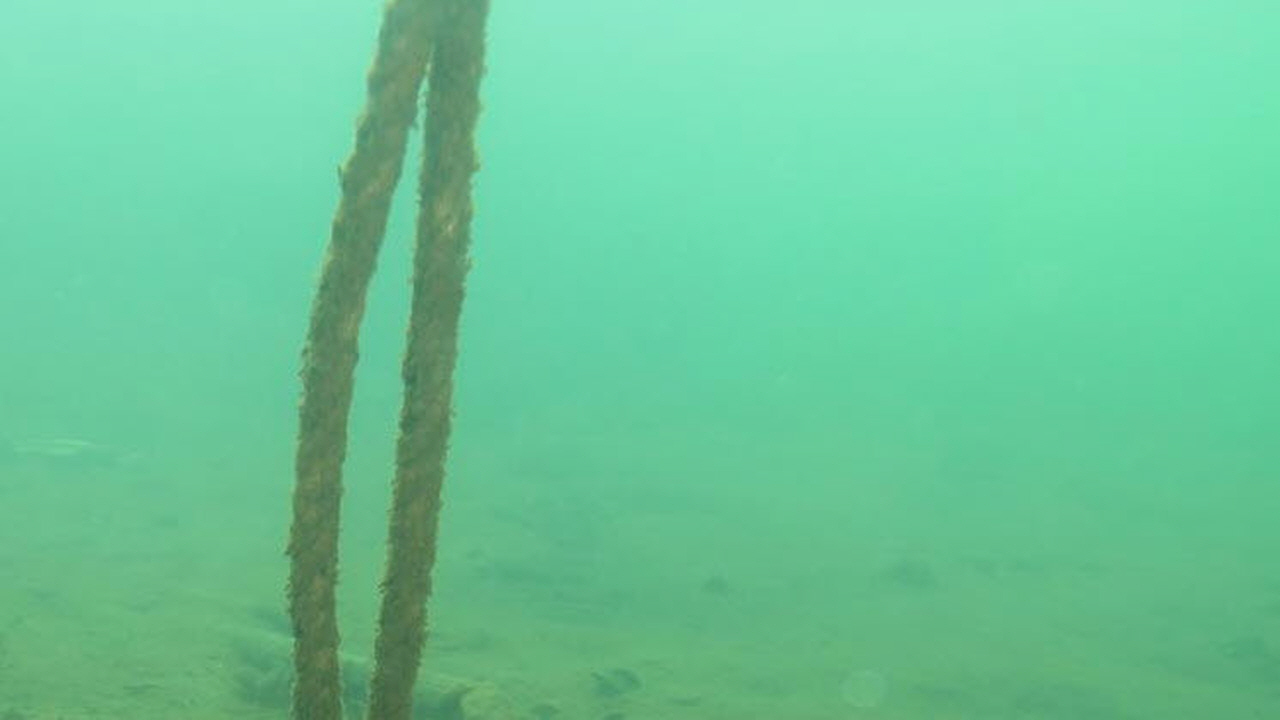bundle of ropes: (278, 0, 492, 720)
